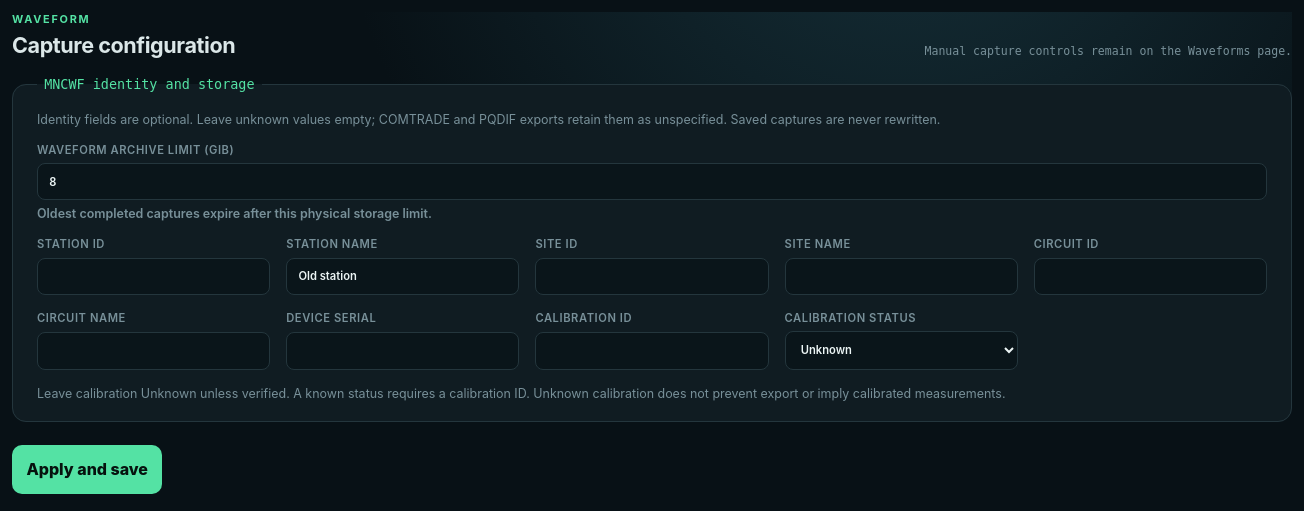
Waveform configuration › allows clearing identity with unknown calibration and requires an ID for a known status
Clear the field labelled "Station name" at (403, 276), box [286, 258, 519, 294]
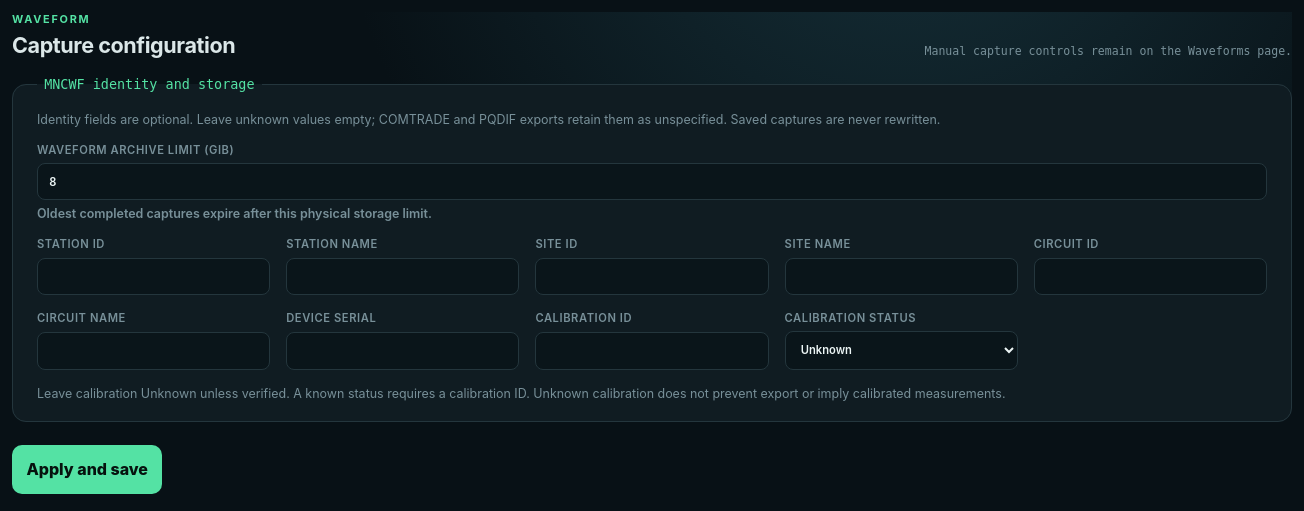
Select "Valid" in the dropdown labelled "Calibration status" at (901, 350), box [785, 331, 1018, 370]
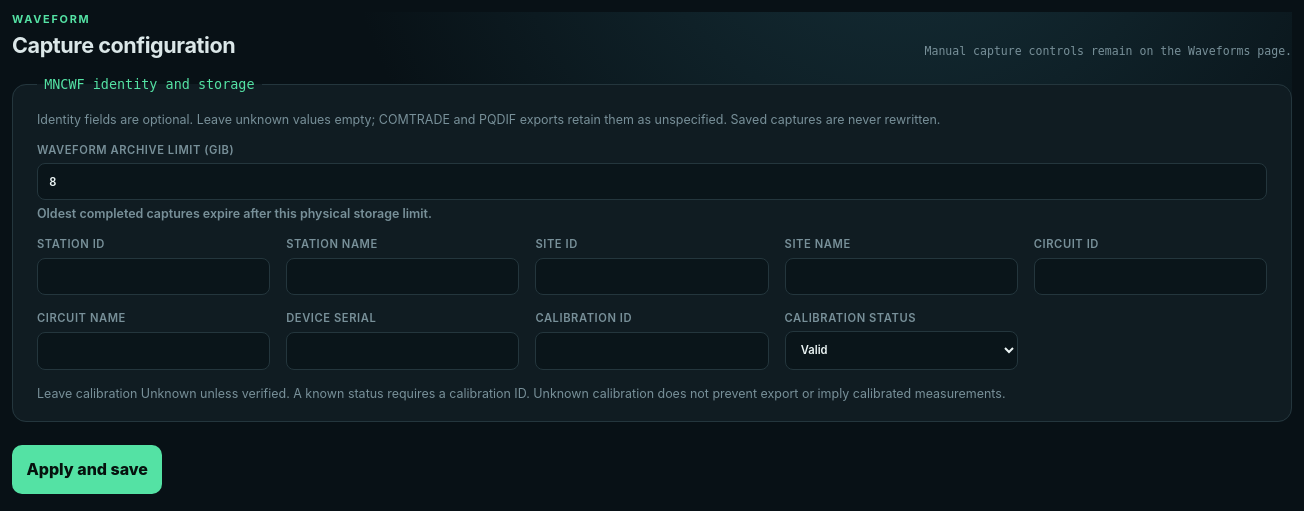
Select "Unknown" in the dropdown labelled "Calibration status" at (901, 350), box [785, 331, 1018, 370]
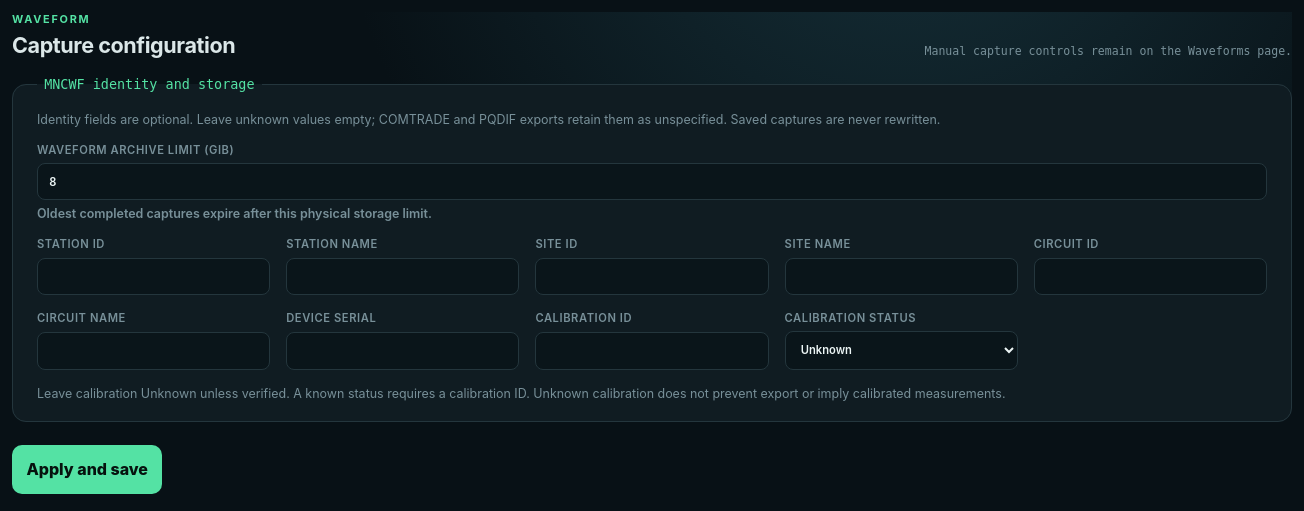
Click the button "Apply and save".
click(87, 469)  # box [12, 445, 162, 494]
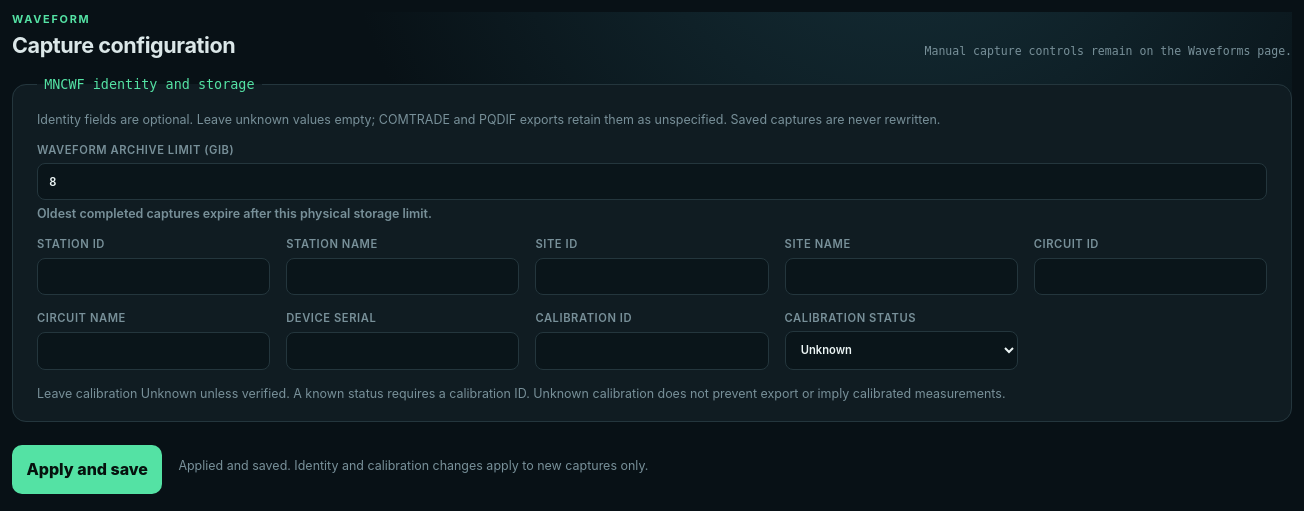
Check: the text "Applied and saved" is shown, box [178, 458, 648, 473]
